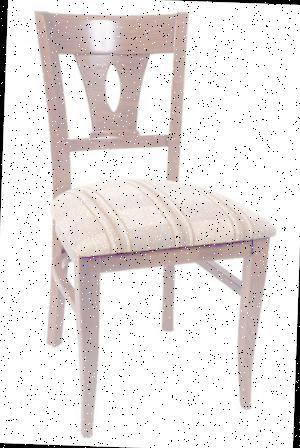Silla: (19, 5, 277, 447)
